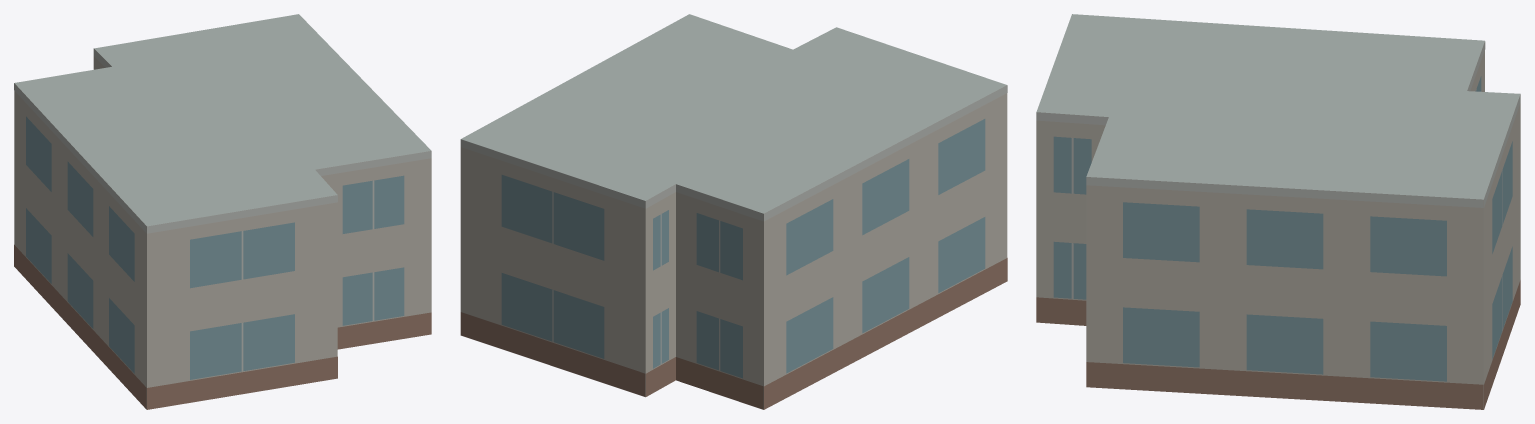
File: survey-upis-32853093.glb
The picture shows the model from 3 angles, left to right: view 1: azimuth 30°, elevation 25°; view 2: azimuth 150°, elevation 25°; view 3: azimuth 270°, elevation 25°; orthographic projection. The views are drawn at different scales.
Parts seen in each view (by area): view 1: survey-upis-32853093.tmp; view 2: survey-upis-32853093.tmp; view 3: survey-upis-32853093.tmp.
Part boxes in pixels (left/top/right/bottom): survey-upis-32853093.tmp: left=14, top=14, right=431, bottom=409; survey-upis-32853093.tmp: left=460, top=14, right=1007, bottom=409; survey-upis-32853093.tmp: left=1036, top=14, right=1520, bottom=409.
Size of the model in its own units: 11.55 by 6.1 by 12.74.
